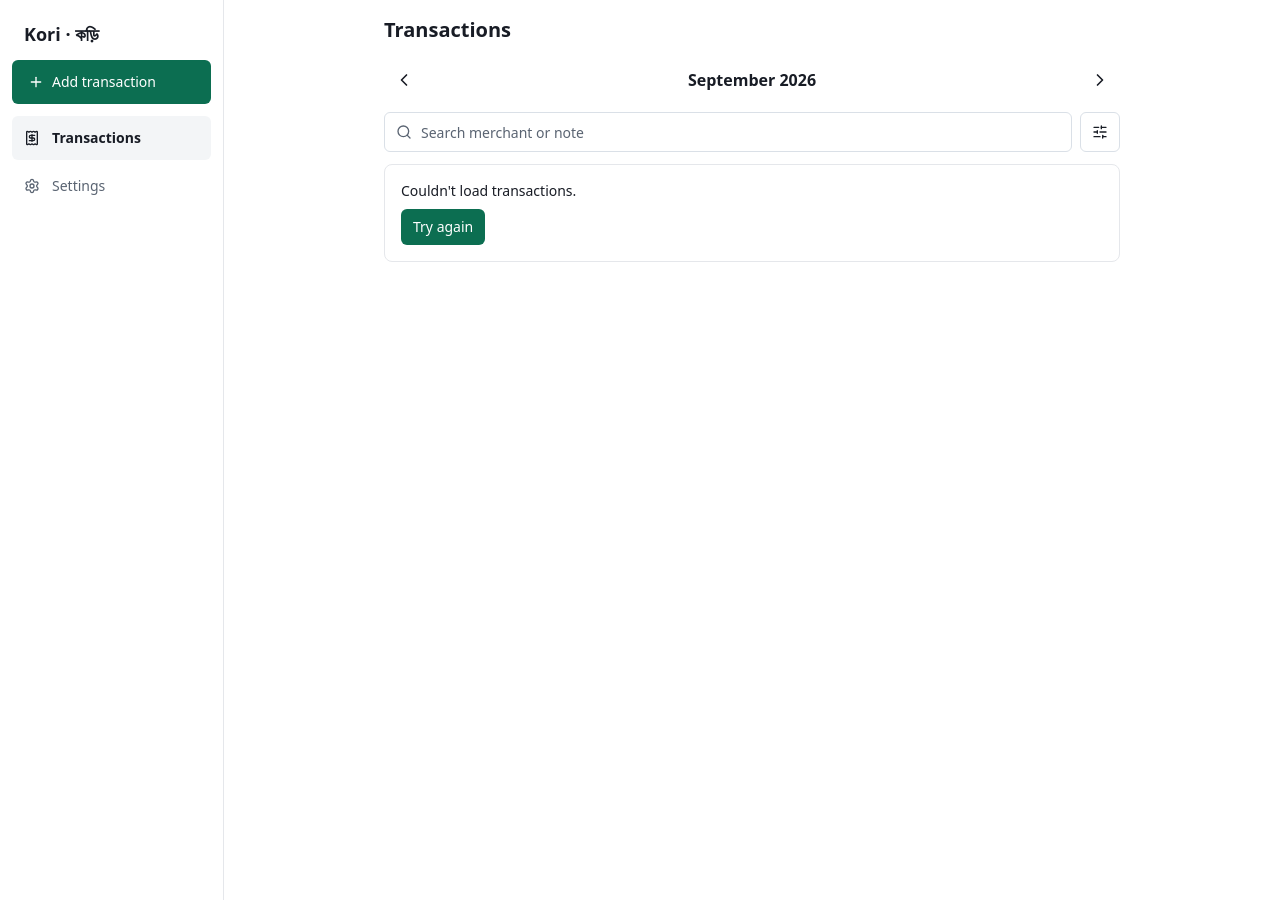
transactions list › offers a retry when loading fails
Expected: the message "Couldn't load transactions. Try again" is shown, [384,164,1120,262]
Click the button "Try again" at (443, 227), box [401,209,485,245]
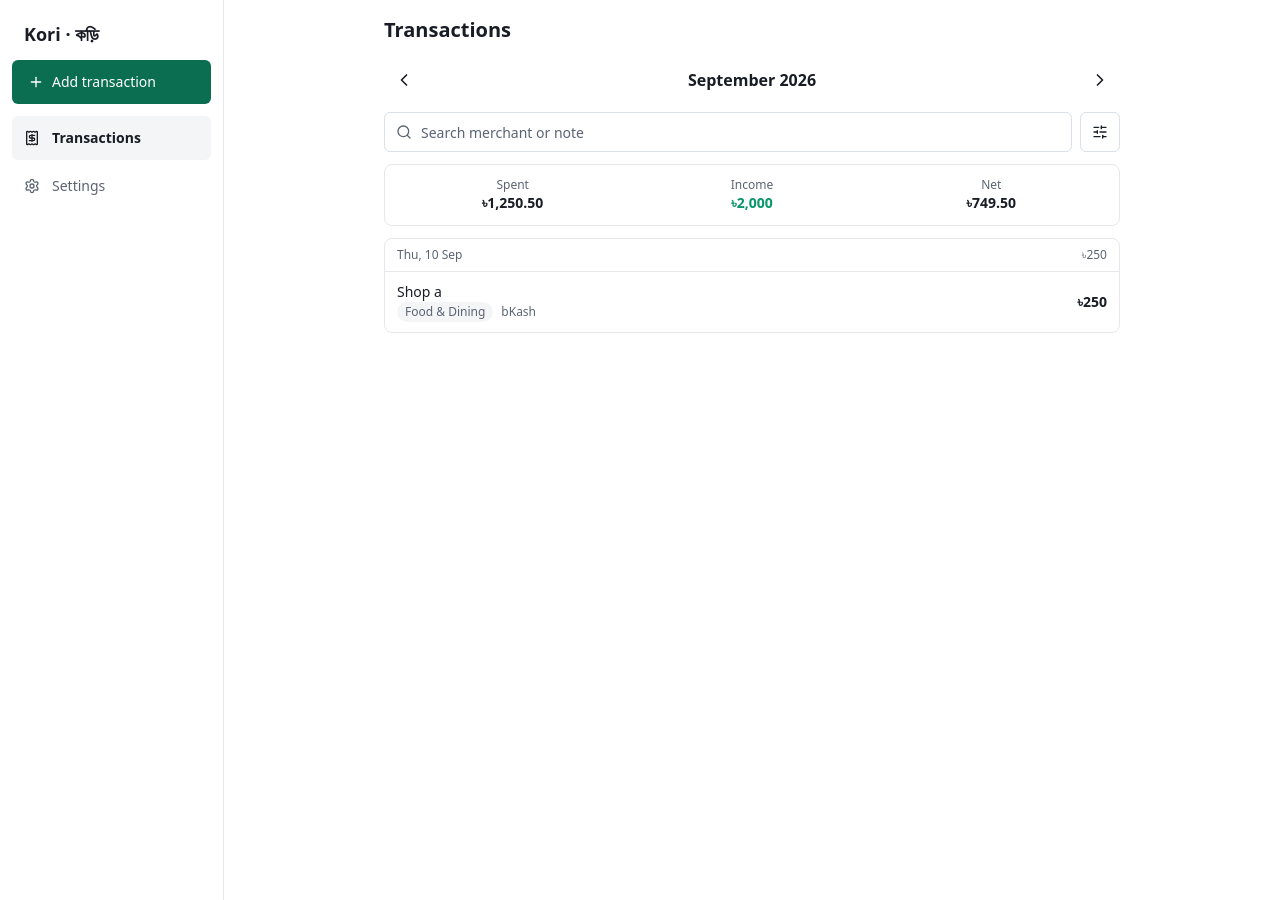
Expected: the text "Shop a" is shown, [397,282,442,301]
